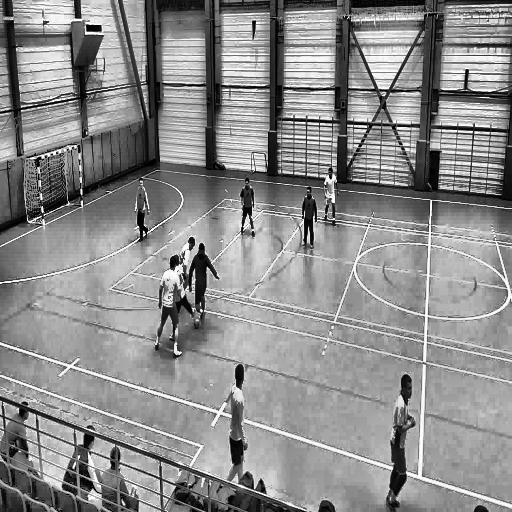ball: (192, 316, 202, 333)
player: (154, 257, 184, 358), (189, 243, 219, 316), (133, 177, 150, 245), (175, 256, 193, 319), (301, 187, 318, 252), (240, 176, 256, 240), (323, 168, 340, 228), (180, 236, 195, 277)
